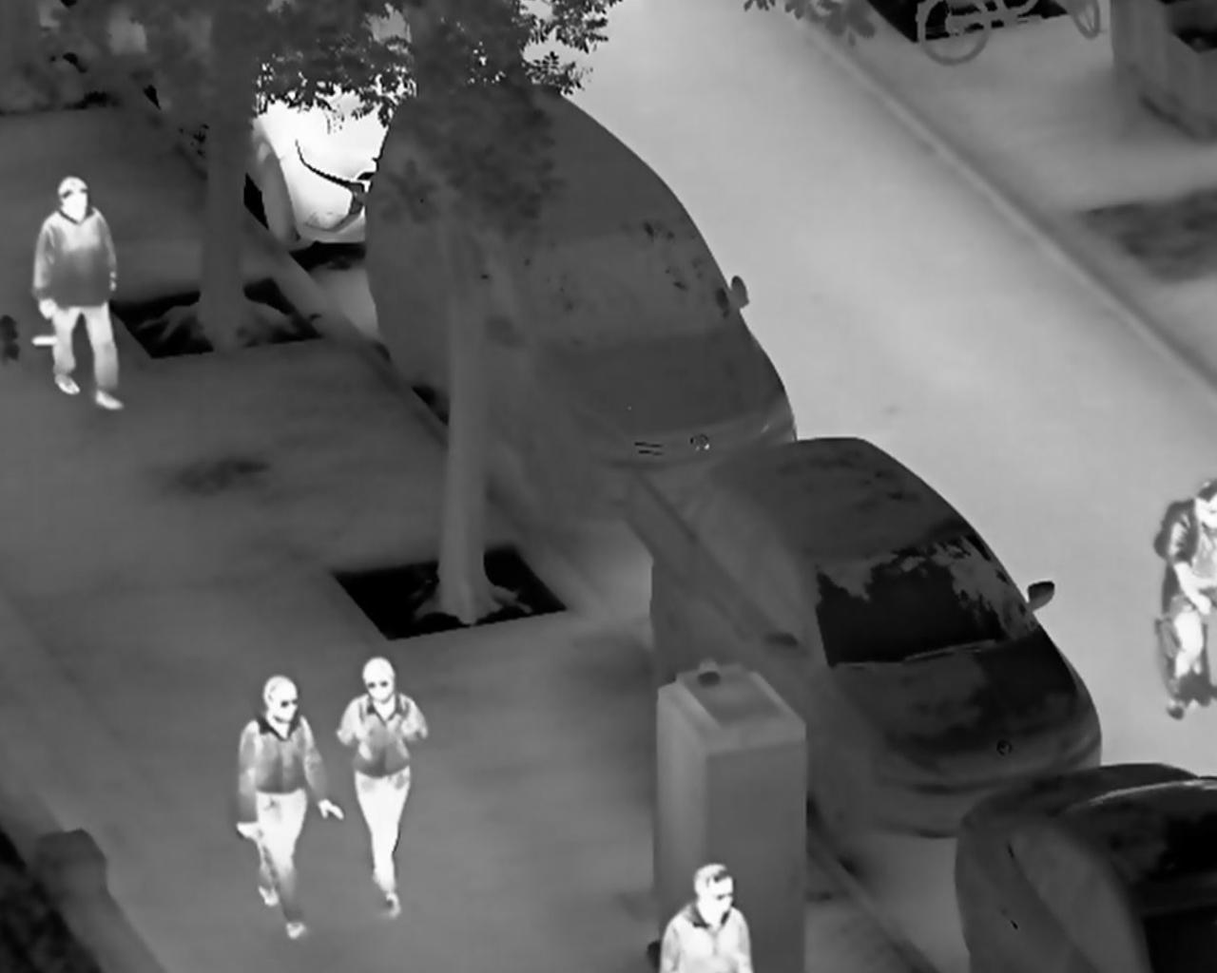person: (237, 674, 344, 942), (334, 653, 432, 924), (29, 173, 124, 414), (1155, 474, 1217, 723), (652, 857, 755, 973)
